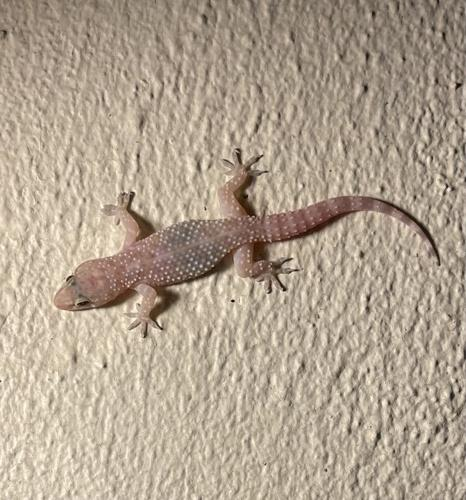lizard: (55, 160, 423, 307)
